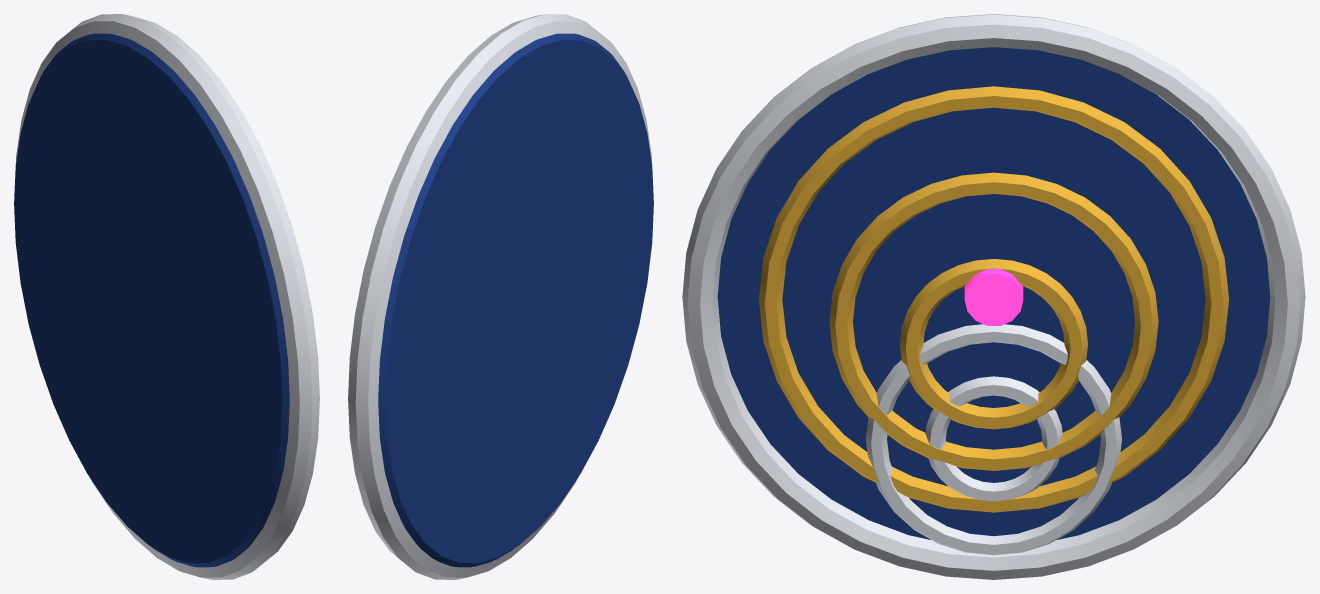
The model's file is side_ornament_wave.glb.
3 views of the same model, side by side, from view 1: azimuth 30°, elevation 25°; view 2: azimuth 150°, elevation 25°; view 3: azimuth 270°, elevation 25° (orthographic). The views are drawn at different scales.
Visible parts, largest first — view 1: paint_blue, chrome; view 2: paint_blue, chrome; view 3: paint_blue, chrome, paint_gold, lamp_pink.
Boxes of the visible parts, x1,y1,x2,y2 form: paint_blue: (14, 33, 289, 567); chrome: (14, 14, 319, 579); paint_blue: (378, 33, 653, 567); chrome: (348, 14, 653, 579); paint_blue: (717, 47, 1270, 539); chrome: (682, 14, 1305, 579); paint_gold: (759, 86, 1228, 512); lamp_pink: (964, 269, 1023, 325).
Bounding box in the file's own units: 0.095 × 1.06 × 1.06.
